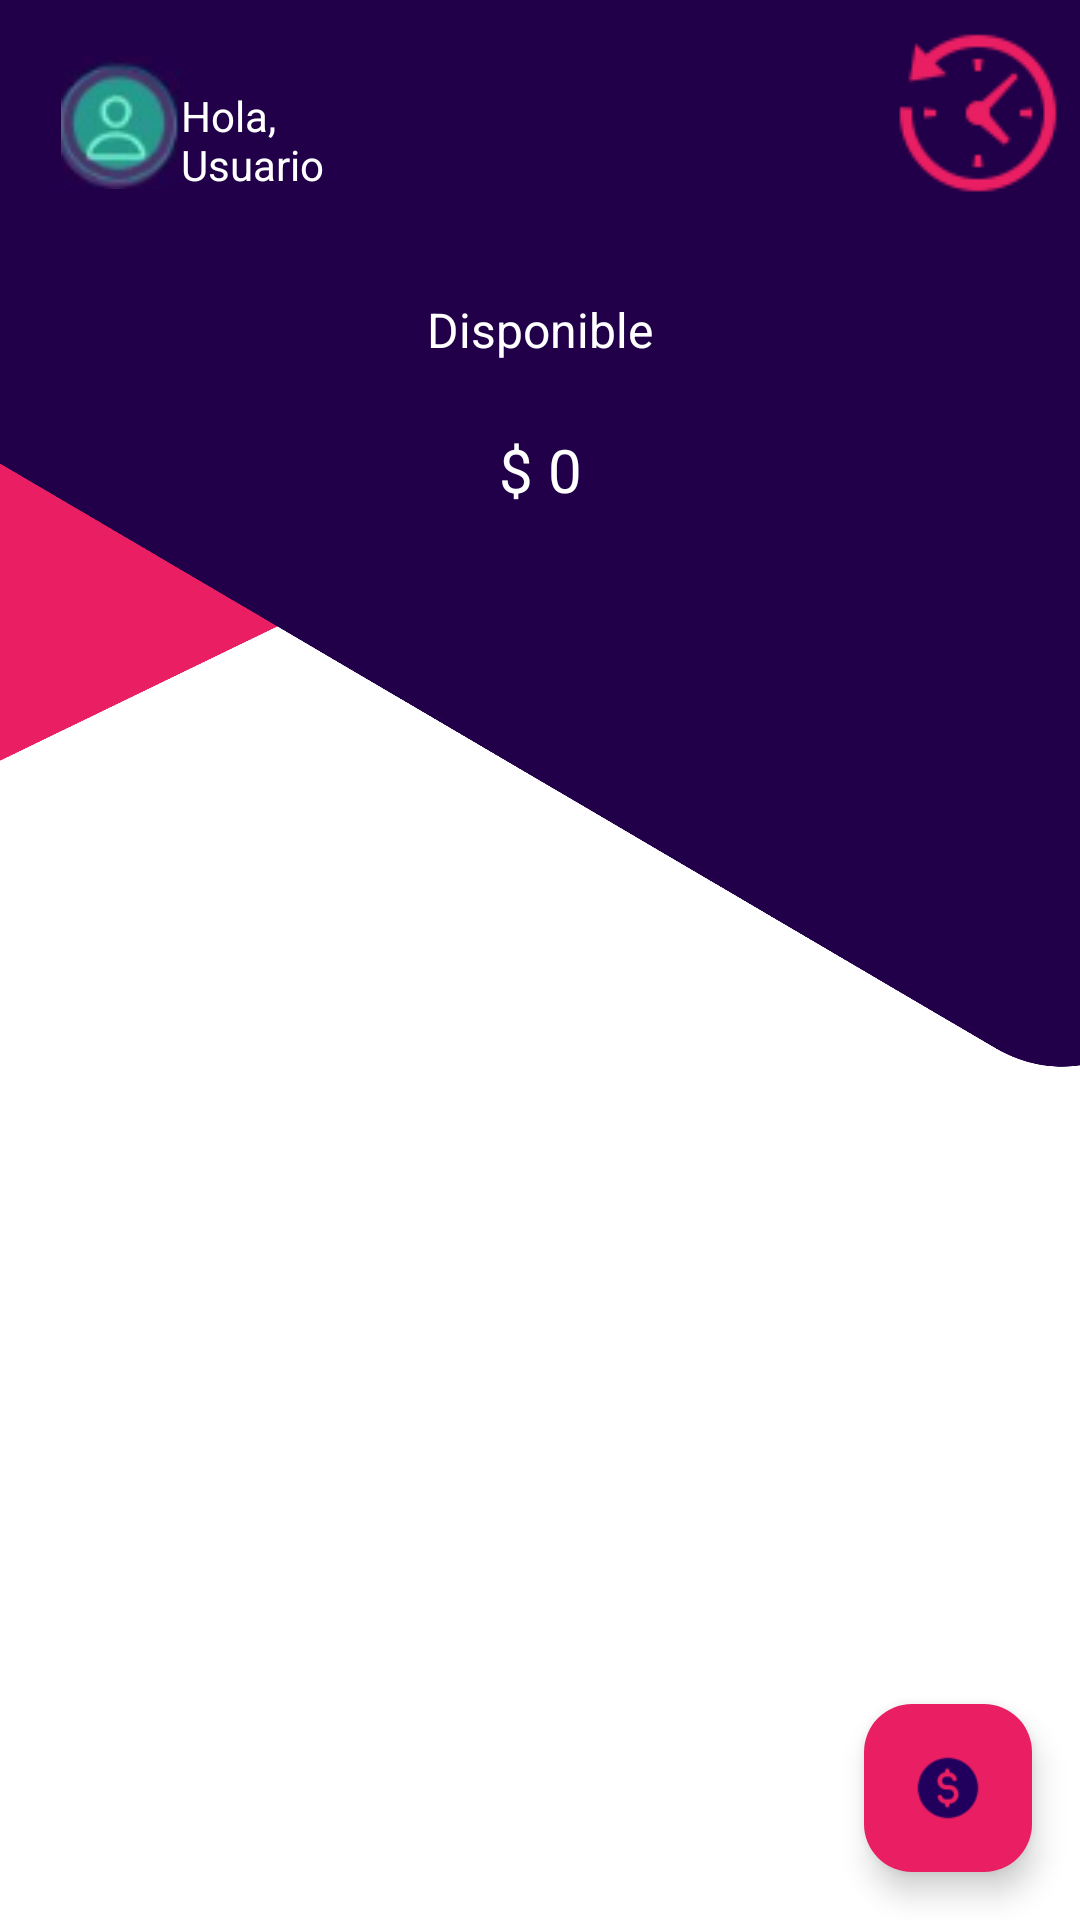

Named icons in this screenshot (1080w x 1920h) and their bounding boxes, (x1, y1, x2, y2):
iconhistorial: (899, 34, 1057, 192)
iconpeso: (864, 1704, 1032, 1872)
